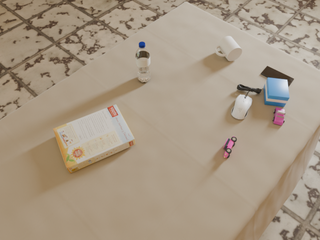bottle: (136, 42, 151, 83)
box: (53, 105, 135, 173), (264, 77, 289, 107)
cup: (215, 36, 242, 61)
mouse: (231, 95, 252, 119)
phone: (261, 66, 294, 87)
toy_car: (223, 136, 237, 158), (273, 108, 285, 125)
